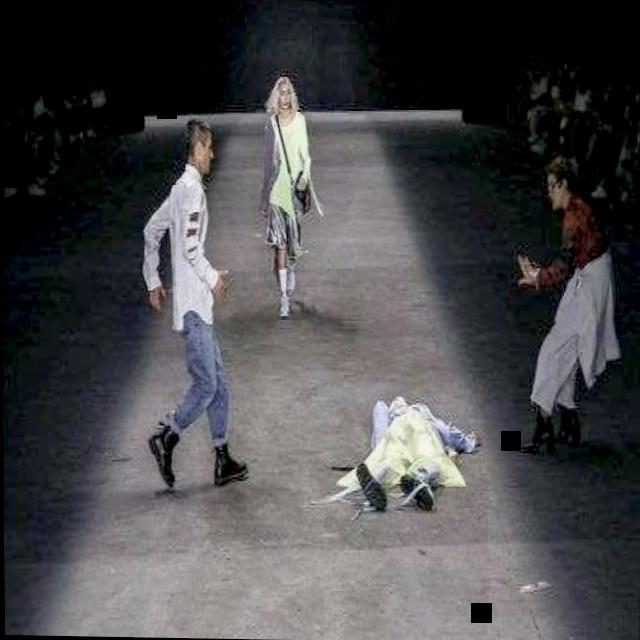Fall-Detected: (328, 376, 491, 520)
